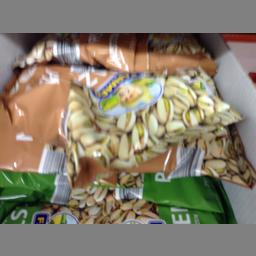nuts: (0, 62, 249, 186)
